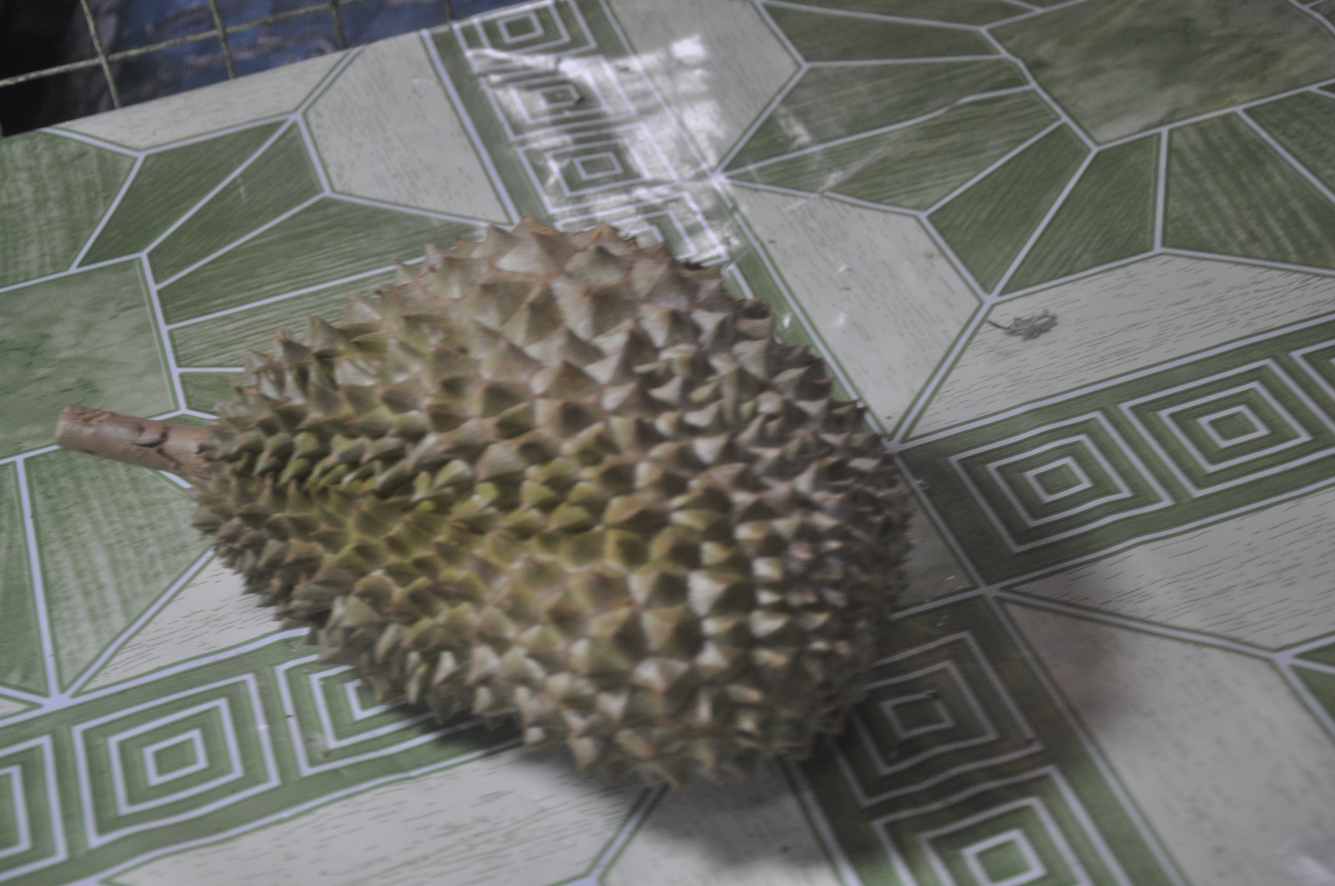mature: (195, 218, 909, 785)
